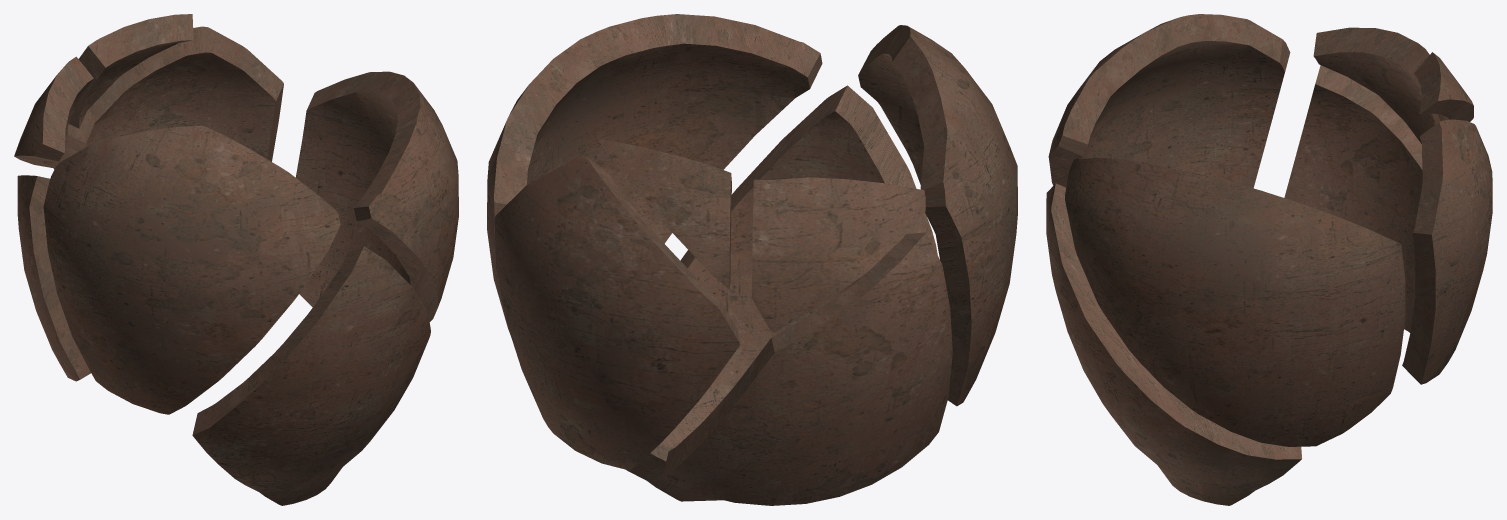
File: pot_large_fractured.gltf
3 views of the same model, side by side, from view 1: azimuth 30°, elevation 25°; view 2: azimuth 150°, elevation 25°; view 3: azimuth 270°, elevation 25° (orthographic). The views are drawn at different scales.
Parts seen in each view (by area): view 1: Sphere_cell.004, Sphere_cell.006, Sphere_cell.003, Sphere_cell.005, Sphere_cell.007, Sphere_cell.009, Sphere_cell.008; view 2: Sphere_cell.005, Sphere_cell.007, Sphere_cell.003, Sphere_cell.004, Sphere_cell.006, Sphere_cell.008, Sphere_cell.009; view 3: Sphere_cell.003, Sphere_cell.004, Sphere_cell.006, Sphere_cell.007, Sphere_cell.005, Sphere_cell.008, Sphere_cell.009.
Part boxes in pixels (x1=…): Sphere_cell.004: x1=43, y1=125, x2=340, y2=414; Sphere_cell.006: x1=192, y1=246, x2=430, y2=505; Sphere_cell.003: x1=295, y1=71, x2=458, y2=321; Sphere_cell.005: x1=54, y1=26, x2=283, y2=169; Sphere_cell.007: x1=17, y1=175, x2=90, y2=381; Sphere_cell.009: x1=69, y1=14, x2=193, y2=128; Sphere_cell.008: x1=14, y1=56, x2=93, y2=168; Sphere_cell.005: x1=494, y1=155, x2=740, y2=470; Sphere_cell.007: x1=661, y1=232, x2=952, y2=505; Sphere_cell.003: x1=487, y1=14, x2=822, y2=334; Sphere_cell.004: x1=858, y1=25, x2=1017, y2=406; Sphere_cell.006: x1=626, y1=85, x2=937, y2=501; Sphere_cell.008: x1=752, y1=177, x2=925, y2=332; Sphere_cell.009: x1=598, y1=139, x2=731, y2=289; Sphere_cell.003: x1=1065, y1=157, x2=1405, y2=446; Sphere_cell.004: x1=1048, y1=14, x2=1290, y2=188; Sphere_cell.006: x1=1046, y1=183, x2=1301, y2=505; Sphere_cell.007: x1=1284, y1=65, x2=1422, y2=332; Sphere_cell.005: x1=1402, y1=119, x2=1492, y2=384; Sphere_cell.008: x1=1313, y1=27, x2=1440, y2=143; Sphere_cell.009: x1=1414, y1=52, x2=1473, y2=121.
Size of the model in its own units: 0.6636 by 0.6666 by 0.6662.
1 material, 1 textured.
